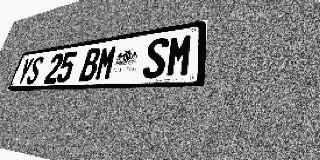2: (43, 53, 65, 83)
5: (55, 51, 78, 83)
B: (78, 47, 102, 82)
M: (165, 33, 194, 78), (94, 45, 118, 81)
S: (142, 37, 169, 79), (25, 56, 45, 84)
Y: (15, 57, 35, 85)
